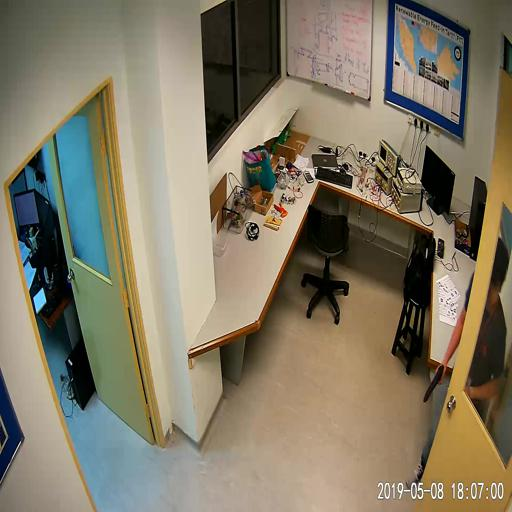pistol: (422, 364, 444, 403)
